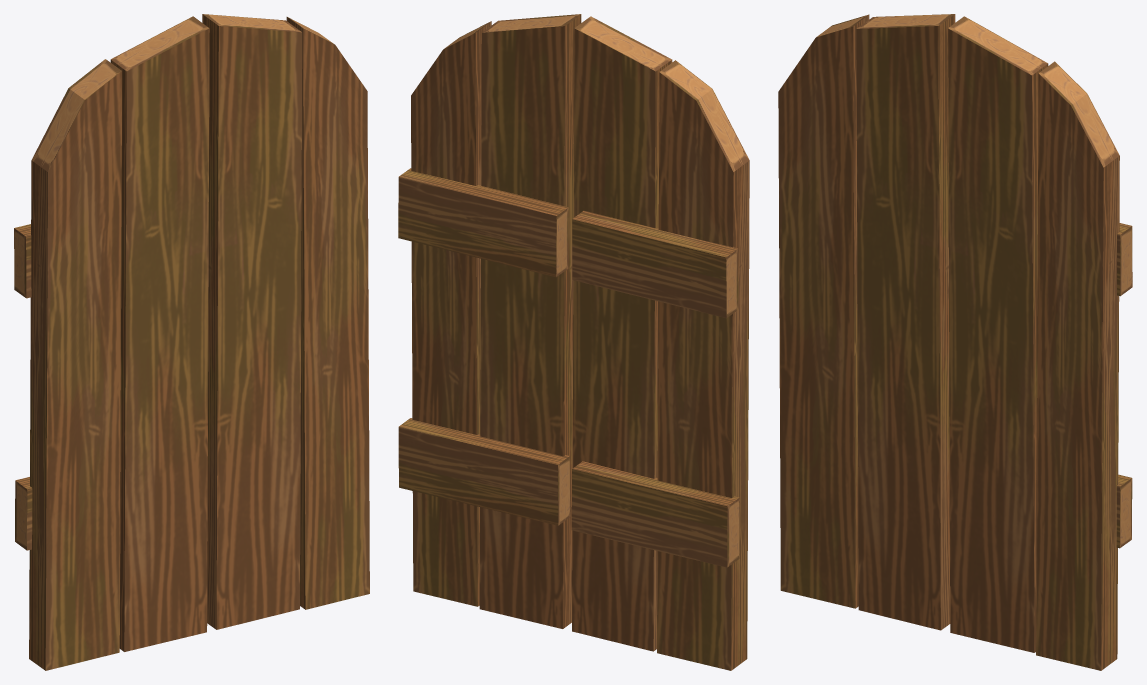
File: WindowShutters_Thin_Round_Closed.obj
3 renders of one model, left to right at view 1: azimuth 30°, elevation 25°; view 2: azimuth 150°, elevation 25°; view 3: azimuth 330°, elevation 25°, orthographic.
Parts seen in each view (by area): view 1: WindowShutters_Thin_Round_Closed; view 2: WindowShutters_Thin_Round_Closed; view 3: WindowShutters_Thin_Round_Closed.
Part boxes in pixels (left/top/right/bottom): WindowShutters_Thin_Round_Closed: left=14, top=14, right=369, bottom=670; WindowShutters_Thin_Round_Closed: left=398, top=14, right=749, bottom=670; WindowShutters_Thin_Round_Closed: left=778, top=14, right=1132, bottom=670.
Size of the model in its own units: 0.8674 by 1.52 by 0.1358.
